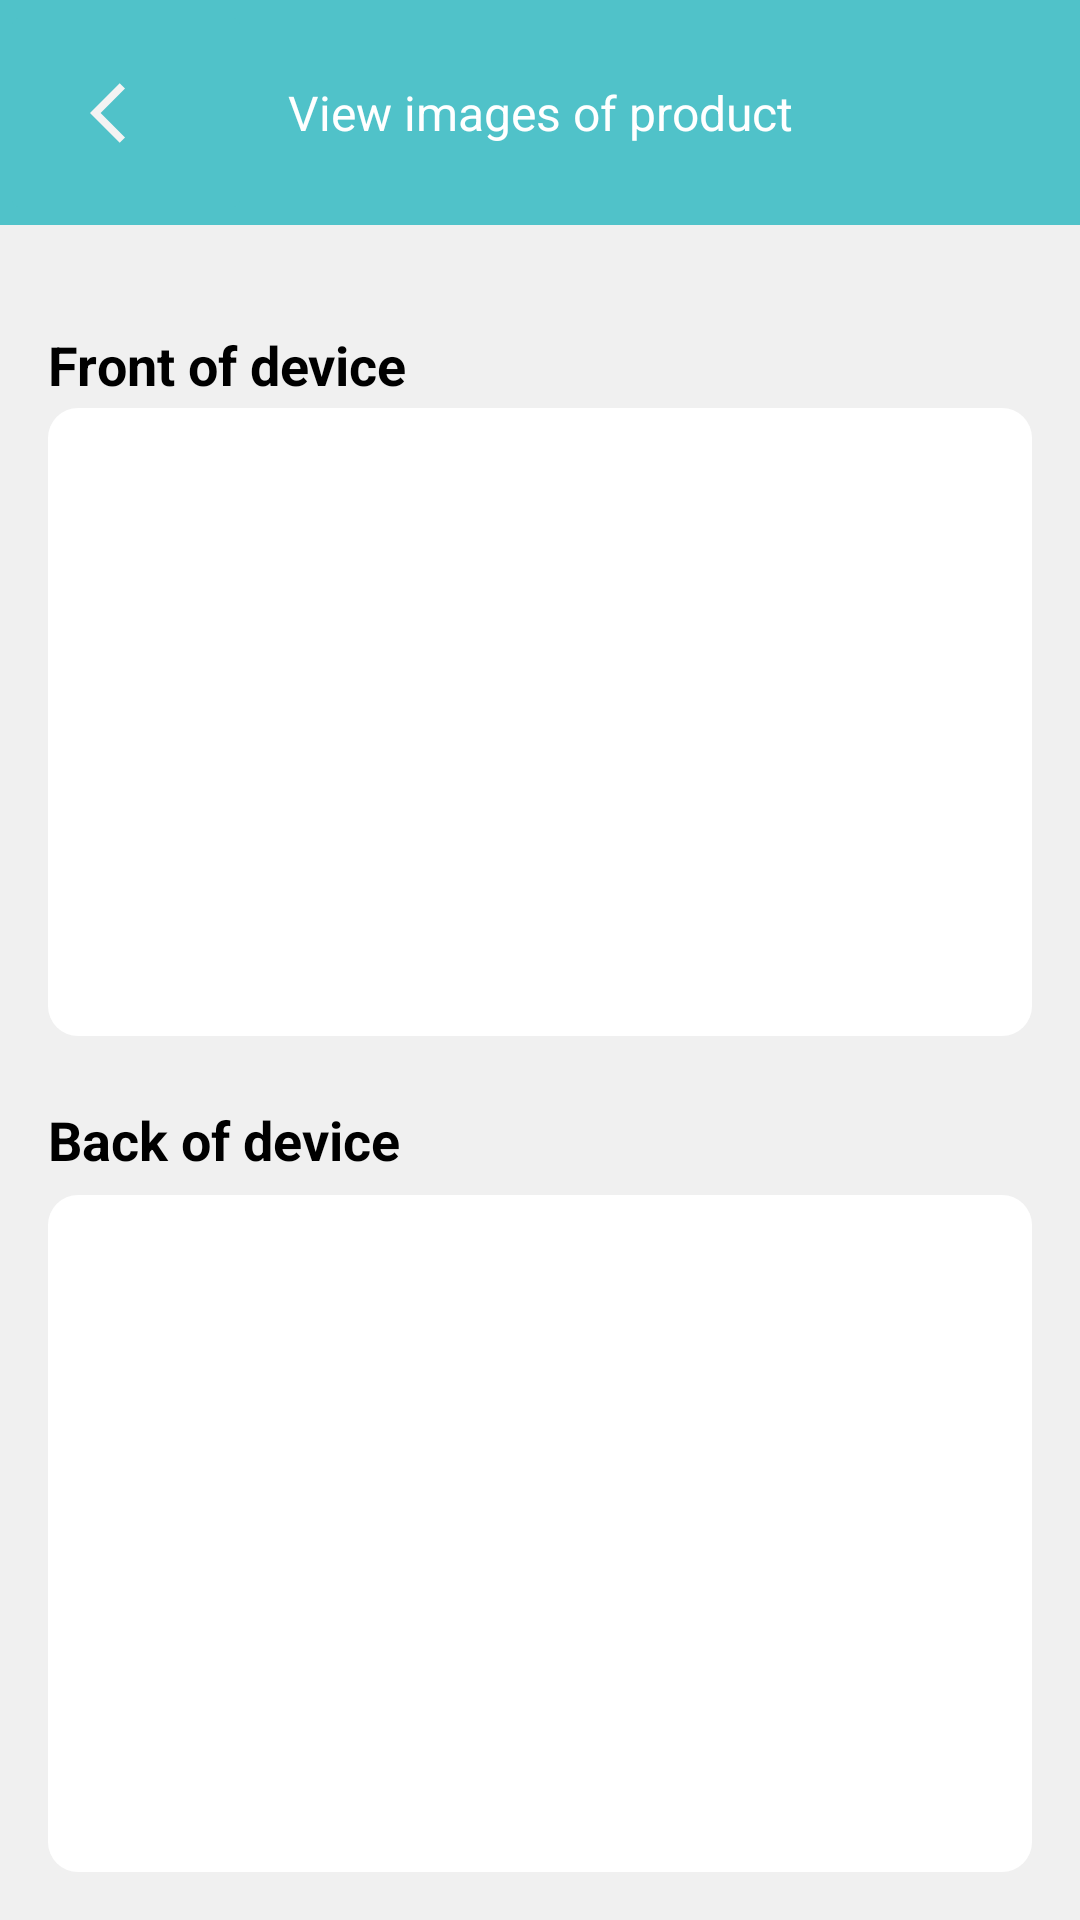

Icon bounding boxes for this 1080px×1920px phone screenshot, format (x1, y1, x2, y2):
arrow left: (90, 83, 125, 143)
